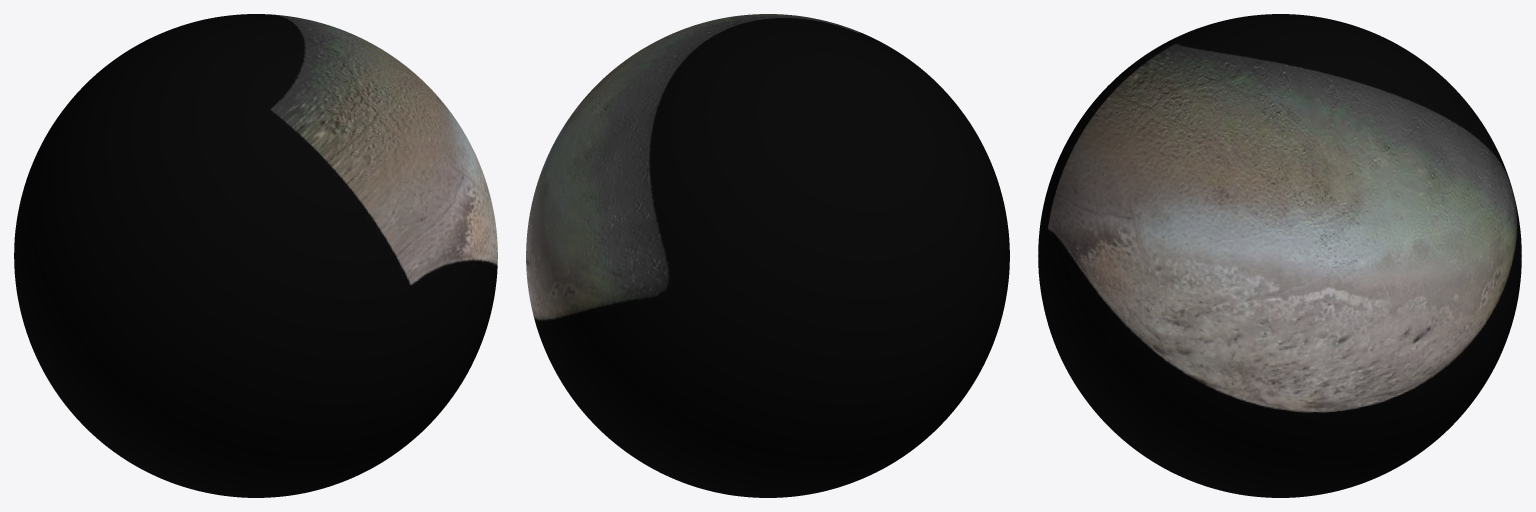
File: triton.glb
The picture shows the model from 3 angles, left to right: view 1: azimuth 30°, elevation 25°; view 2: azimuth 150°, elevation 25°; view 3: azimuth 270°, elevation 25°; orthographic projection.
Visible parts, largest first — view 1: Triton_Asset; view 2: Triton_Asset; view 3: Triton_Asset.
Boxes of the visible parts, <box> form: Triton_Asset: <box>14,14,497,497</box>; Triton_Asset: <box>526,14,1009,497</box>; Triton_Asset: <box>1038,14,1521,497</box>.
Bounding box in the file's own units: 0.6391 × 0.6401 × 0.6391.
Materials: 1 (1 with a texture image).
